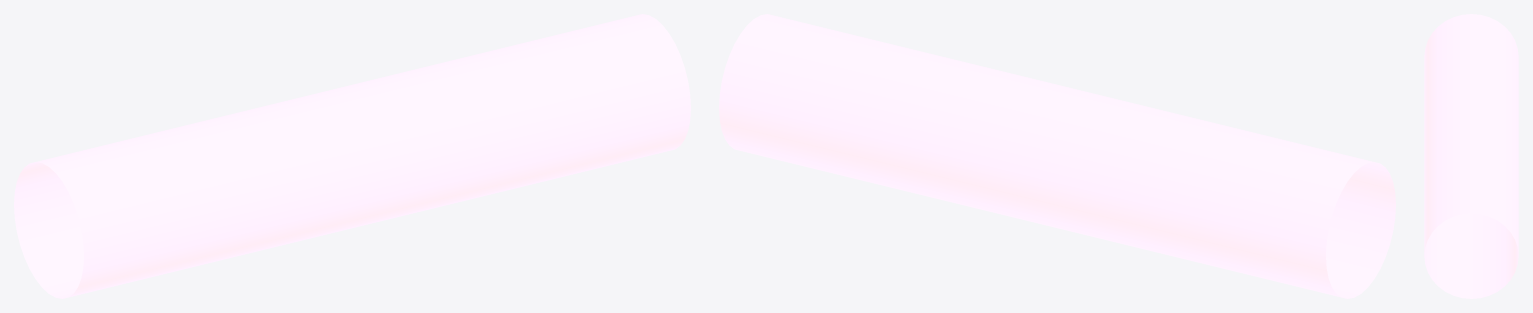
Rendered from laser.glb.
3 views of the same model, side by side, from view 1: azimuth 30°, elevation 25°; view 2: azimuth 150°, elevation 25°; view 3: azimuth 270°, elevation 25° (orthographic). The views are drawn at different scales.
Visible parts, largest first — view 1: Laser; view 2: Laser; view 3: Laser.
Part boxes in pixels (x1,y1,x2,y2): Laser: (14,14,690,298); Laser: (719,14,1395,298); Laser: (1424,14,1518,298).
Bounding box in the file's own units: 1 × 0.2 × 0.2.
